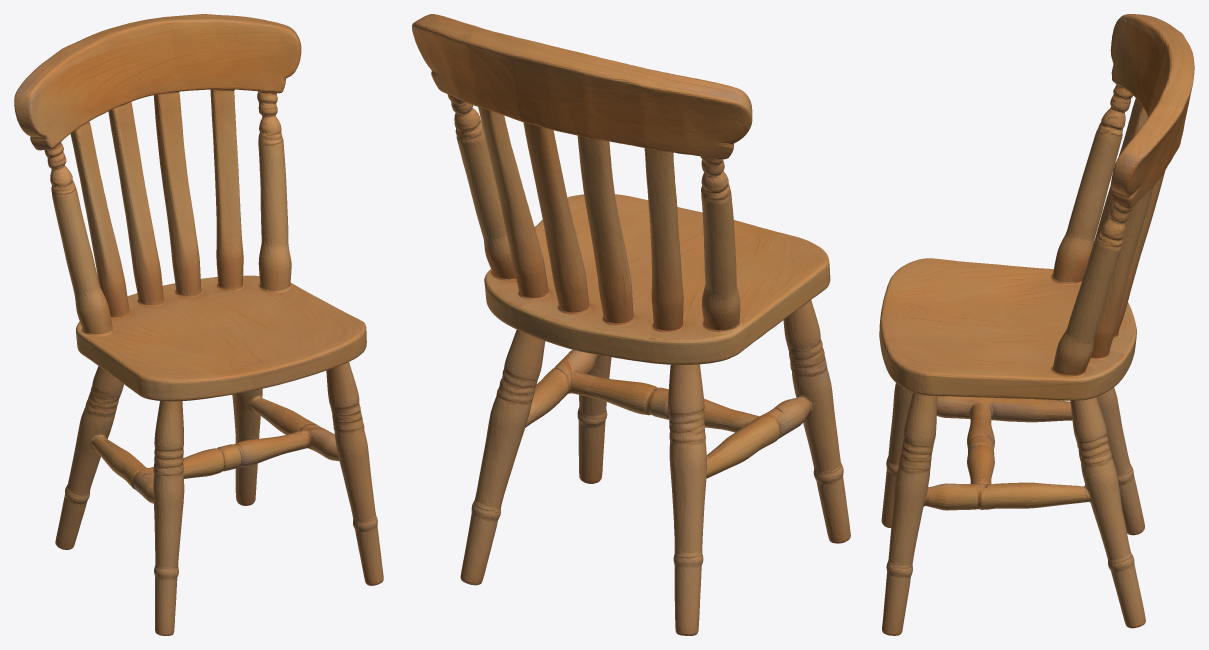
The model's file is sandalye-2k.glb.
3 renders of one model, left to right at view 1: azimuth 30°, elevation 25°; view 2: azimuth 150°, elevation 25°; view 3: azimuth 270°, elevation 25°, orthographic. The views are drawn at different scales.
Parts seen in each view (by area): view 1: WhatsApp_Image_2026-11-08_at_17.21.15.obj; view 2: WhatsApp_Image_2026-11-08_at_17.21.15.obj; view 3: WhatsApp_Image_2026-11-08_at_17.21.15.obj.
Boxes of the visible parts, bbox=[...] form: WhatsApp_Image_2026-11-08_at_17.21.15.obj: bbox=[14, 14, 383, 635]; WhatsApp_Image_2026-11-08_at_17.21.15.obj: bbox=[412, 14, 850, 635]; WhatsApp_Image_2026-11-08_at_17.21.15.obj: bbox=[879, 14, 1194, 635].
Bounding box in the file's own units: 1.22 × 1.99 × 1.1.
1 material, 1 textured.
